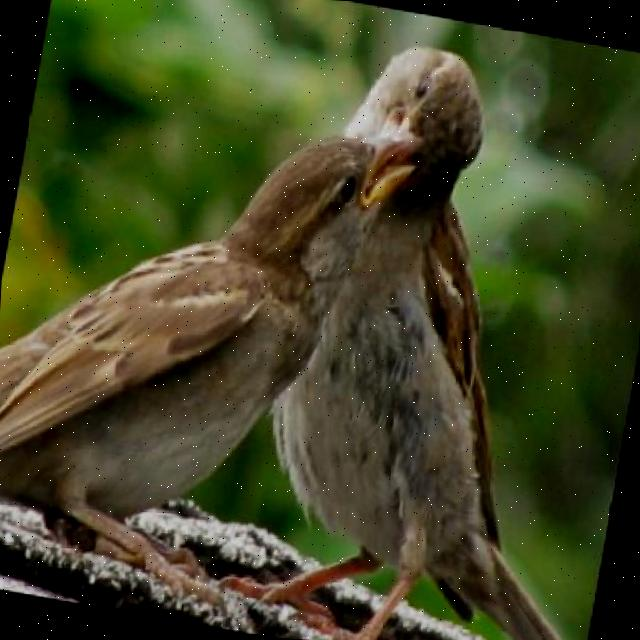sparrow: (223, 30, 640, 640), (0, 66, 423, 564)
